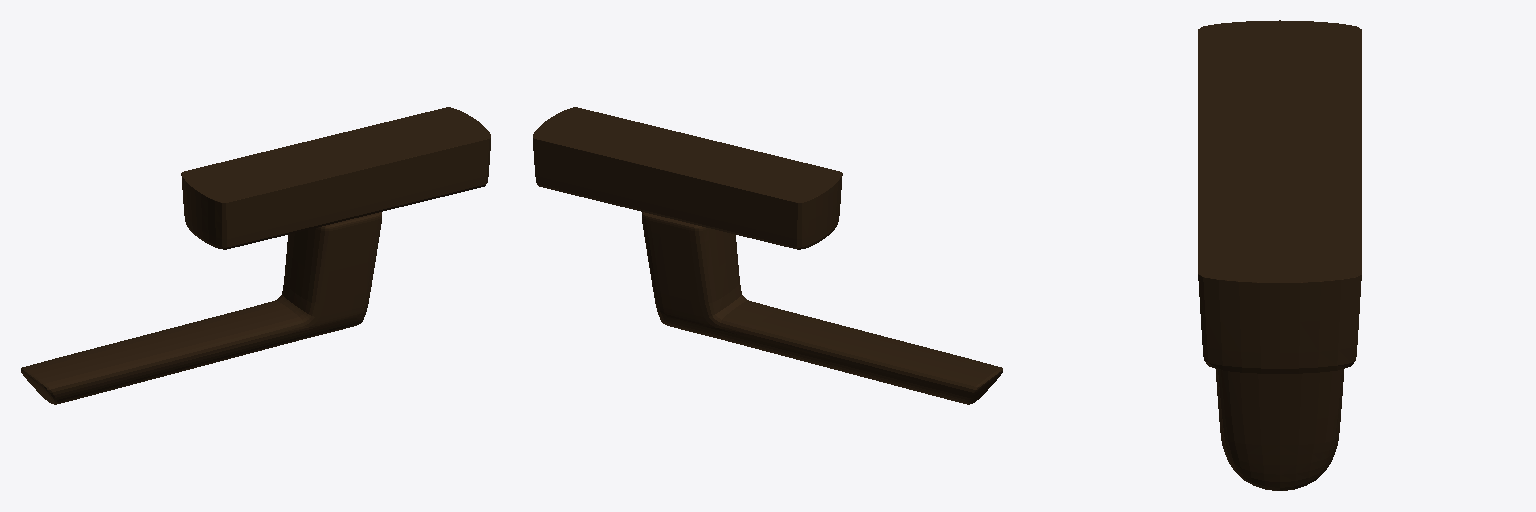
URDF robot description (window):
<?xml version="1.0" ?>
<robot name="window">
	<link name="base"/>
	<link name="link_0">
		<visual name="out-frame">
			<origin xyz="0 0 0"/>
			<geometry>
				<mesh filename="texture_dae/untitled.dae" scale="1 1 1"/>
			</geometry>
		</visual>
		<collision>
			<origin xyz="0 0 0"/>
			<geometry>
				<mesh filename="texture_dae/untitled.dae" scale="1 1 1"/>
			</geometry>
		</collision>
	</link>
	<joint name="joint_0" type="fixed">
		<origin rpy="1.570796326794897 0 -1.570796326794897" xyz="0 0 0"/>
		<child link="link_0"/>
		<parent link="base"/>
	</joint>
	<link name="link_1">
		<visual name="surf-board">
			<origin xyz="0.23565320670604706 -0.34836465252022536 0"/>
			<geometry>
				<mesh filename="texture_dae/untitled1.dae" scale="1 1 1"/>
			</geometry>
		</visual>
		<collision>
			<origin xyz="0.23565320670604706 -0.34836465252022536 0"/>
			<geometry>
				<mesh filename="texture_dae/untitled1.dae" scale="1 1 1"/>
			</geometry>
		</collision>
	</link>
	<joint name="joint_1" type="revolute">
		<origin xyz="-0.23565320670604706 0.34836465252022536 0"/>
		<axis xyz="0 -1 0"/>
		<child link="link_1"/>
		<parent link="link_0"/>
		<limit lower="0" upper="1.5079644737231006"/>
	</joint>
	<link name="link_2">
		<visual name="handle">
			<origin xyz="0 0 0"/>
			<geometry>
				<mesh filename="texture_dae/9969520-handle.dae" scale="1.0967568946222062 1.0967568946222062 1.0967568946222062"/>
			</geometry>
		</visual>
		<collision>
			<origin xyz="0 0 0"/>
			<geometry>
				<mesh filename="texture_dae/9969520-handle.dae" scale="1.0967568946222062 1.0967568946222062 1.0967568946222062"/>
			</geometry>
		</collision>
	</link>
	<joint name="joint_2" type="revolute">
		<origin xyz="0 0 0"/>
		<child link="link_2"/>
		<parent link="link_3"/>
		<axis xyz="0 0 1"/>
		<limit lower="0" upper="1.5079644737231006"/>
	</joint>
	<link name="link_3">
		<visual name="lock">
			<origin xyz="0 0 0"/>
			<geometry>
				<mesh filename="texture_dae/9969520-lock.dae" scale="1.0967568946222062 1.0967568946222062 1.0967568946222062"/>
			</geometry>
		</visual>
		<collision>
			<origin xyz="0 0 0"/>
			<geometry>
				<mesh filename="texture_dae/9969520-lock.dae" scale="1.0967568946222062 1.0967568946222062 1.0967568946222062"/>
			</geometry>
		</collision>
	</link>
	<joint name="joint_3" type="fixed">
		<origin xyz="0.44409596992656586 -0.34836465252022536 0.00917094583565014"/>
		<child link="link_3"/>
		<parent link="link_1"/>
	</joint>
</robot>

--- Facts derived from the render (not from the file) ---
Views: 3 orthographic renders of the robot side by side, from view 1: azimuth 30°, elevation 25°; view 2: azimuth 150°, elevation 25°; view 3: azimuth 270°, elevation 25°.
Model window with 5 links and 4 joints (2 revolute, 2 fixed), rooted at base, posed every joint at zero.
Visible links, largest first — view 1: link_3, link_2; view 2: link_3, link_2; view 3: link_3, link_2.
Boxes of the visible links, <box> form: link_3: <box>181,107,490,249</box>; link_2: <box>21,212,381,404</box>; link_3: <box>533,107,842,249</box>; link_2: <box>642,212,1002,404</box>; link_3: <box>1198,20,1361,373</box>; link_2: <box>1216,369,1343,490</box>.
Bounding box of the posed robot: 0.1975 × 0.0329 × 0.075 m (x, y, z).
Meshes: 4 distinct files referenced, 2 mesh visuals loaded (2 Collada DAE); not drawn: 2 (reference not matched to a file when rendering).
